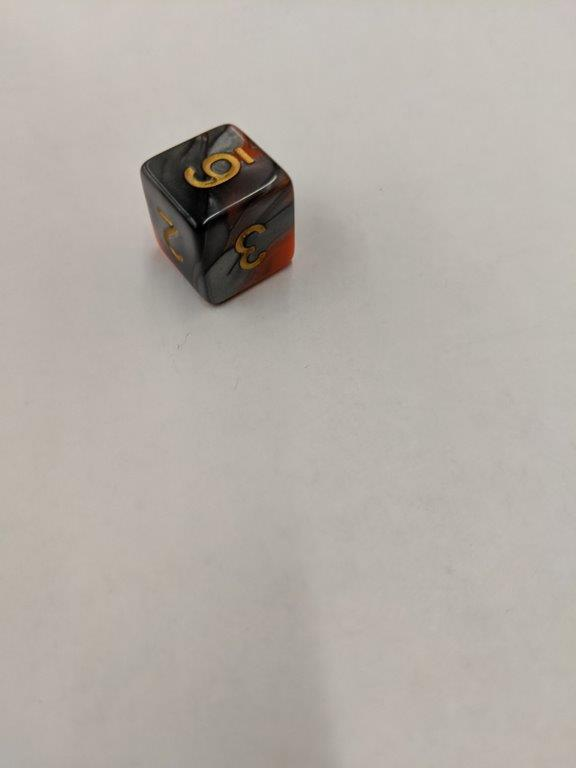d6-6: (138, 122, 297, 308)
